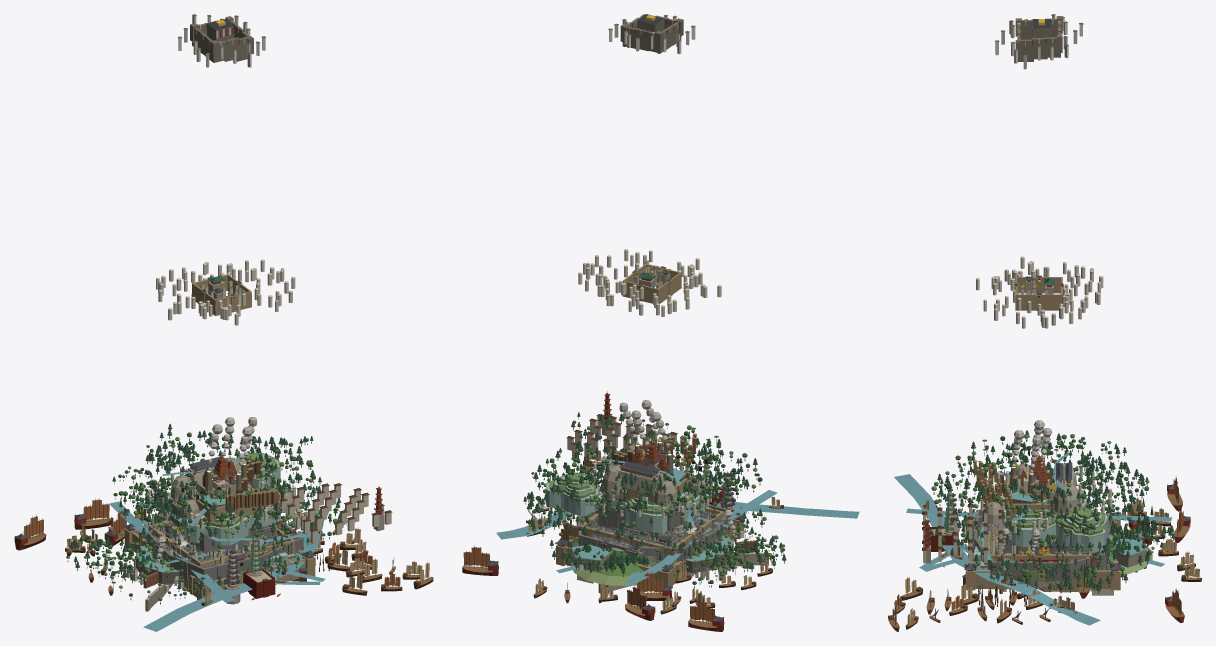
Rendered from landmarks.glb.
The picture shows the model from 3 angles, left to right: view 1: azimuth 30°, elevation 25°; view 2: azimuth 150°, elevation 25°; view 3: azimuth 270°, elevation 25°; orthographic projection.
Visible parts, largest first — view 1: lm_kyoto, lm_hangzhou, lm_karakorum, lm_quanzhou, lm_haeinsa, lm_terraces, lm_nanjing, lm_sakya, lm_iron, lm_liujiagang, lm_champa, lm_dadu (+7 smaller); view 2: lm_karakorum, lm_hangzhou, lm_liujiagang, lm_kyoto, lm_terraces, lm_haeinsa, lm_nanjing, lm_iron, lm_sakya, lm_hakata, lm_kaifeng, lm_champa (+8 smaller); view 3: lm_karakorum, lm_terraces, lm_kyoto, lm_nanjing, lm_haeinsa, lm_hangzhou, lm_liujiagang, lm_sakya, lm_quanzhou, lm_jingdezhen, lm_iron, lm_champa (+10 smaller).
Part boxes in pixels (<box>): lm_kyoto: <box>112,431,392,543</box>; lm_hangzhou: <box>66,509,328,631</box>; lm_karakorum: <box>156,259,295,325</box>; lm_quanzhou: <box>95,518,433,595</box>; lm_haeinsa: <box>118,436,321,533</box>; lm_terraces: <box>131,423,314,553</box>; lm_nanjing: <box>147,509,303,598</box>; lm_sakya: <box>177,14,265,67</box>; lm_iron: <box>144,417,292,520</box>; lm_liujiagang: <box>14,491,225,593</box>; lm_champa: <box>151,455,293,510</box>; lm_dadu: <box>123,524,316,600</box>; lm_karakorum: <box>578,249,721,316</box>; lm_hangzhou: <box>496,471,859,573</box>; lm_liujiagang: <box>462,517,734,631</box>; lm_kyoto: <box>542,391,762,518</box>; lm_terraces: <box>545,462,742,532</box>; lm_haeinsa: <box>545,412,757,515</box>; lm_nanjing: <box>527,453,731,571</box>; lm_iron: <box>577,400,721,494</box>; lm_sakya: <box>608,14,695,54</box>; lm_hakata: <box>523,464,772,608</box>; lm_kaifeng: <box>580,491,736,565</box>; lm_champa: <box>588,427,719,519</box>; lm_karakorum: <box>976,256,1103,328</box>; lm_terraces: <box>945,433,1126,553</box>; lm_kyoto: <box>922,436,1149,563</box>; lm_nanjing: <box>929,488,1146,591</box>; lm_haeinsa: <box>931,430,1145,522</box>; lm_hangzhou: <box>894,462,1104,625</box>; lm_liujiagang: <box>962,476,1201,622</box>; lm_sakya: <box>995,14,1083,69</box>; lm_quanzhou: <box>888,494,1095,631</box>; lm_jingdezhen: <box>906,508,1172,588</box>; lm_iron: <box>967,420,1113,518</box>; lm_champa: <box>968,439,1109,528</box>.
Bounding box in the file's own units: 6.46 × 12.04 × 6.16.
